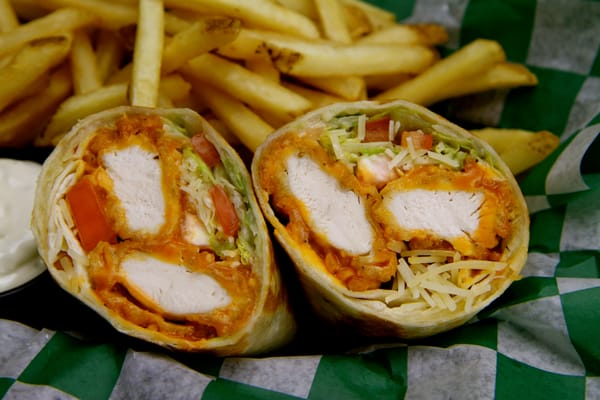soup: (30, 103, 297, 356), (251, 98, 531, 339)
sushi: (250, 97, 530, 339)
